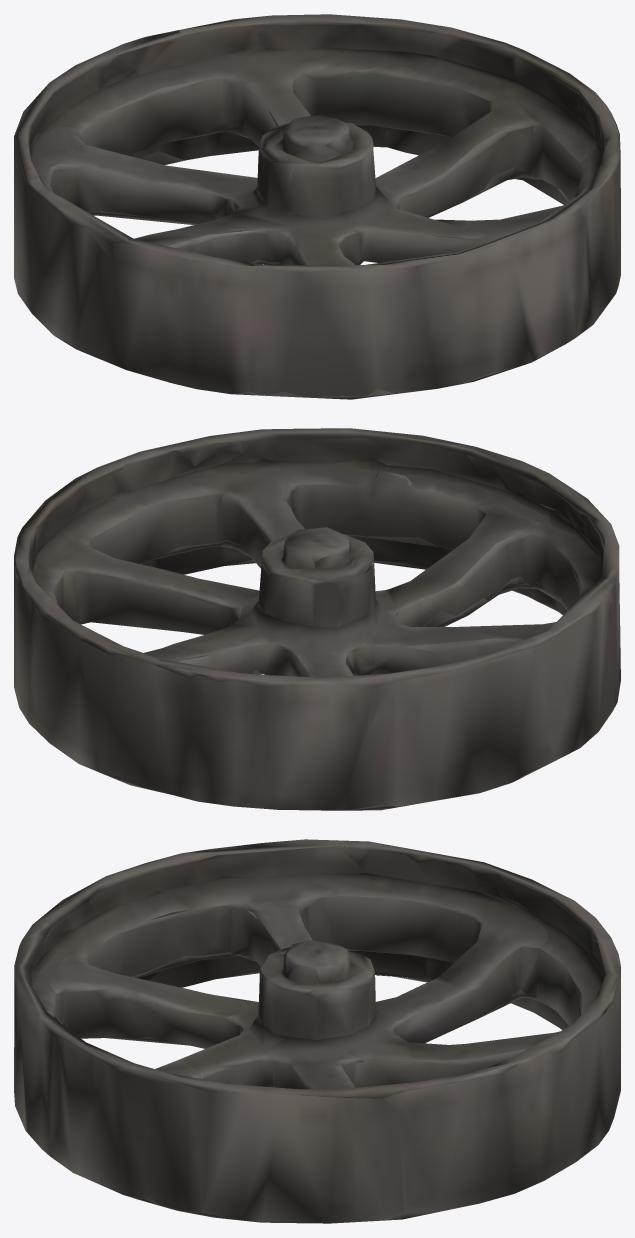
Rendered from polea.movil.glb.
3 views of the same model, one above another, from view 1: azimuth 30°, elevation 25°; view 2: azimuth 150°, elevation 25°; view 3: azimuth 270°, elevation 25° (orthographic).
Visible parts, largest first — view 1: geometry_0; view 2: geometry_0; view 3: geometry_0.
Part boxes in pixels (bbox=[...]): geometry_0: bbox=[14, 14, 620, 399]; geometry_0: bbox=[14, 428, 620, 810]; geometry_0: bbox=[14, 839, 620, 1223].
Bounding box in the file's own units: 0.4487 × 0.1193 × 0.449.
Materials: 1 (1 with a texture image).
